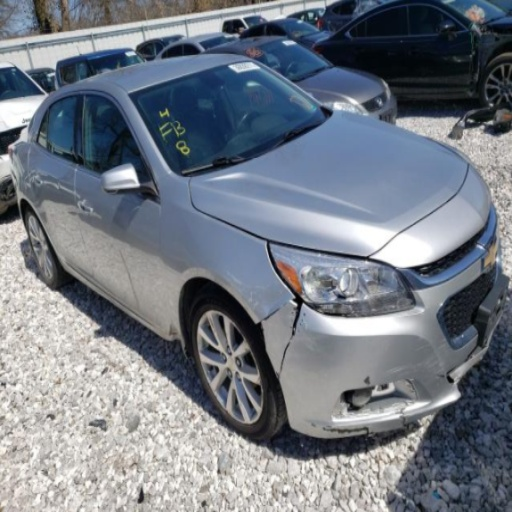dent: (168, 324, 188, 361)
scratch: (380, 336, 447, 377)
